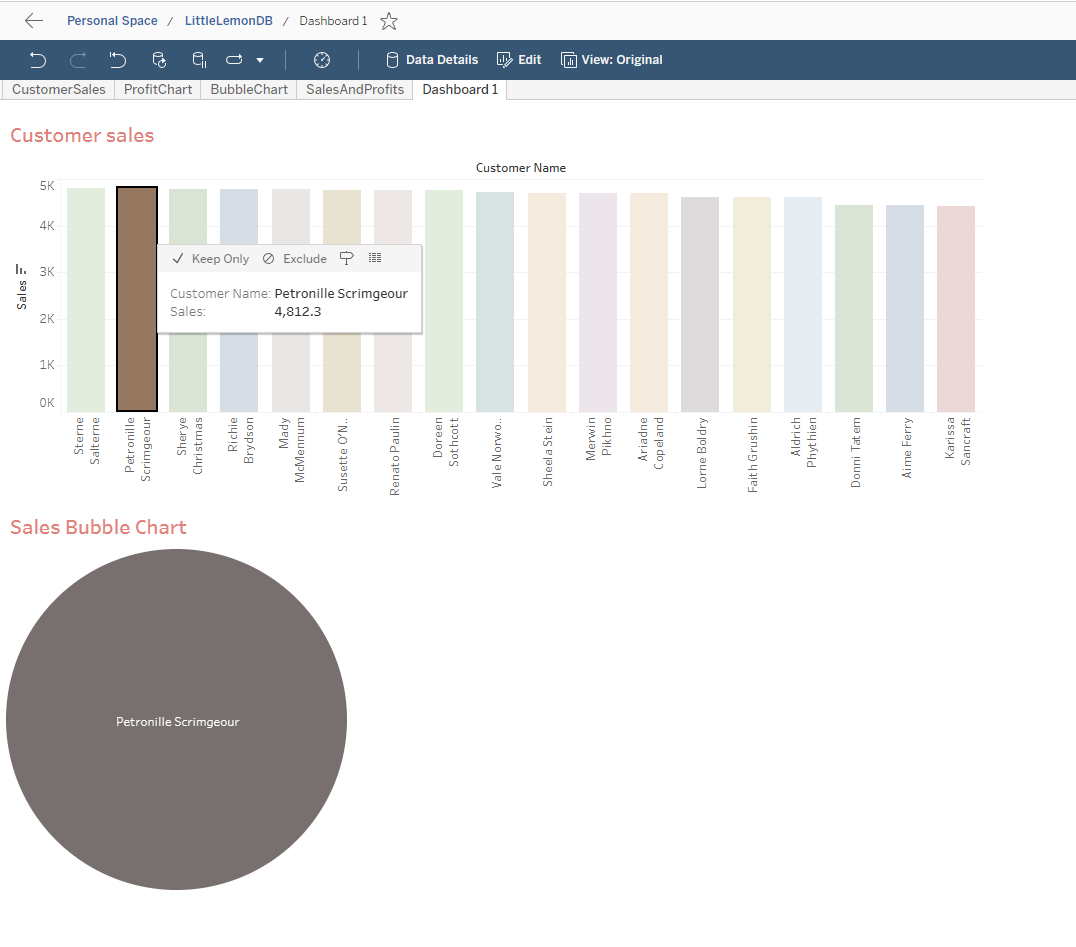

The page's visual inventory and layout, read from the dashboard file:
{"tool":"tableau","page":{"name":"Dashboard 1","canvas":[1000,800],"ordinal":0},"visuals":[{"type":"worksheet","title":"CustomerSales","mark":"Automatic","rows":["Sales"],"cols":["Customer Name"],"box":[8,8,984,392]},{"type":"worksheet","title":"BubbleChart","mark":"Circle","box":[8,400,984,392]}]}

Visuals, with their boxes on the page's 1000x800 design canvas (x1, y1, x2, y2). These are canvas units, not pixel positions in the 1076x947 screenshot, which may show the page scaled, cropped or inside an application window:
"CustomerSales" worksheet: (left=8, top=8, right=992, bottom=400)
"BubbleChart" worksheet (Circle marks): (left=8, top=400, right=992, bottom=792)
